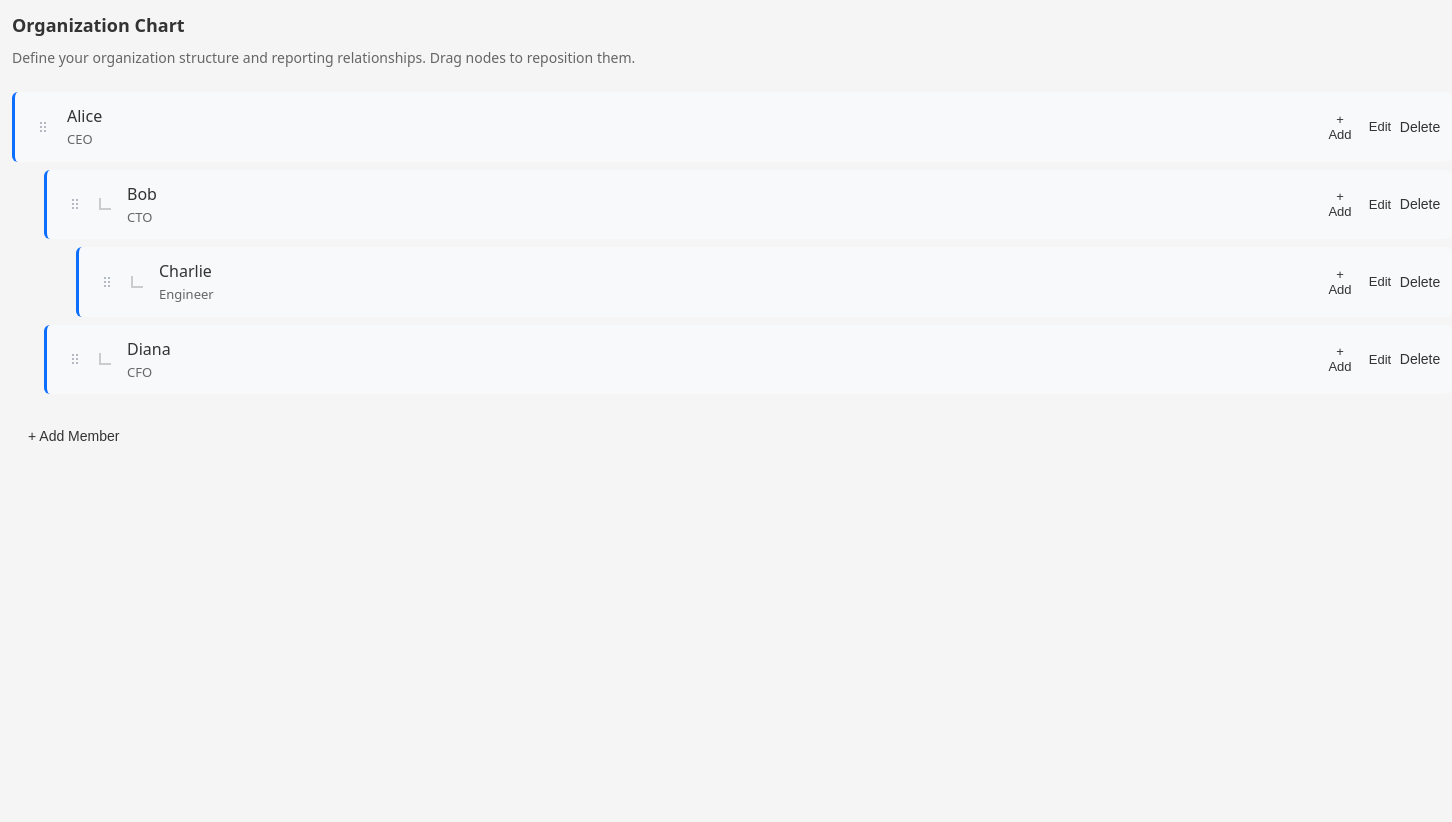
Test: OrgChartEditor › Adding nodes › can add subordinate to specific node
The width and height of the screenshot is (1452, 822).
// Click add on Bob's node
Click the button with aria-label "Add subordinate to Bob": (1340, 204) [1324,188,1356,220]
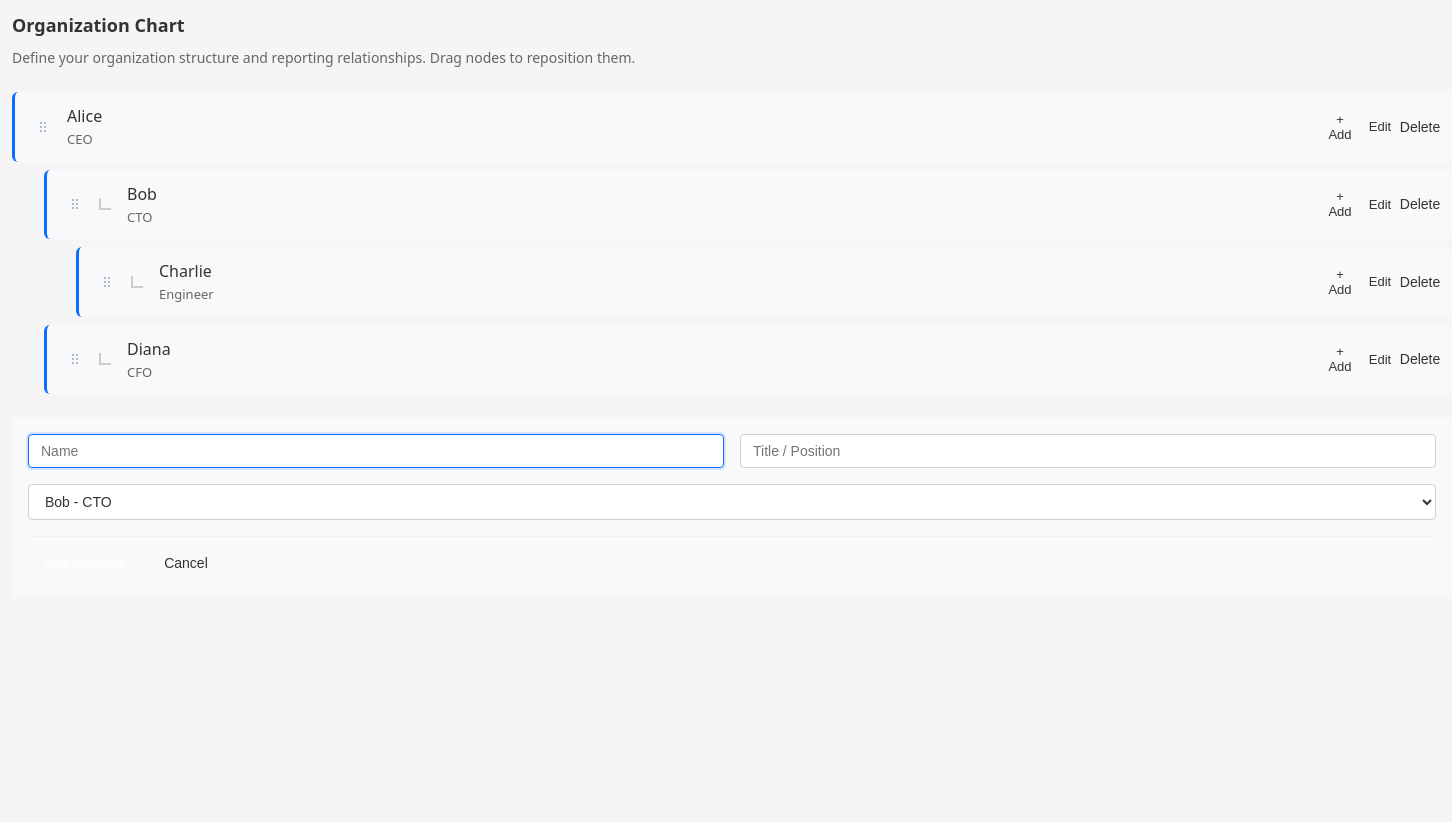
Now the field with placeholder "Name" is shown, box [28,434,724,468]
